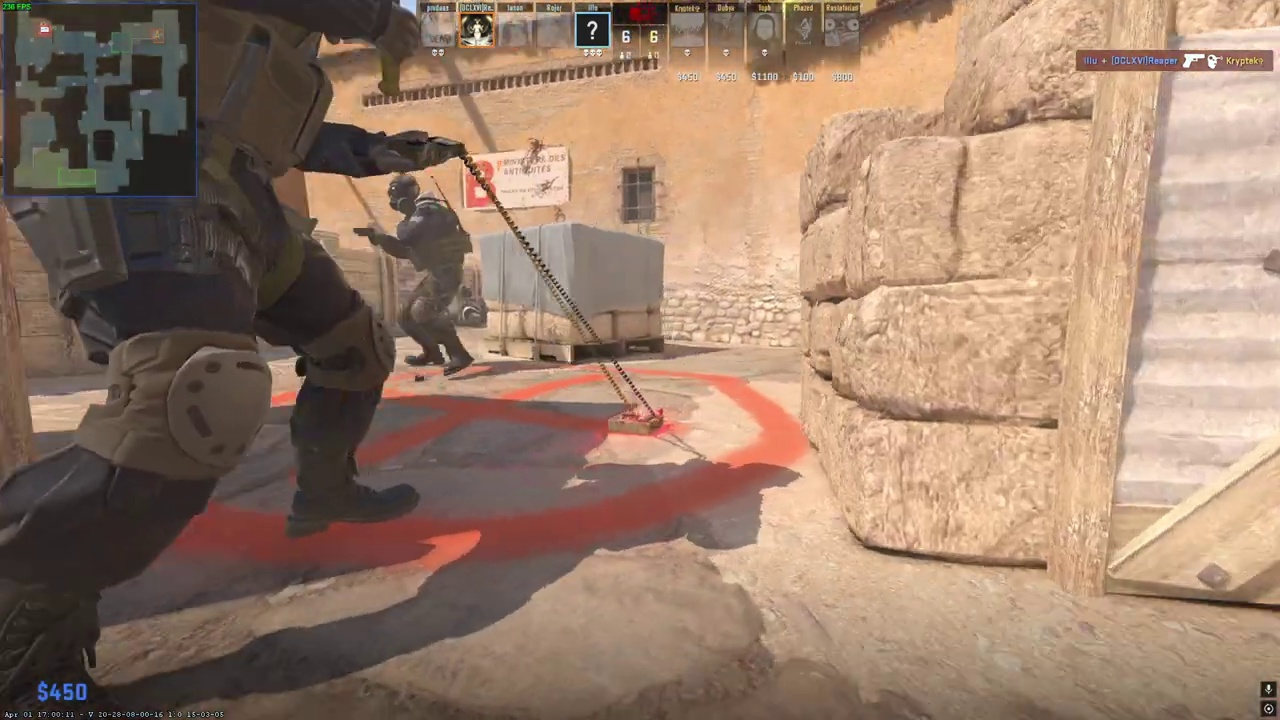CT: (3, 4, 418, 720), (382, 174, 475, 377)
